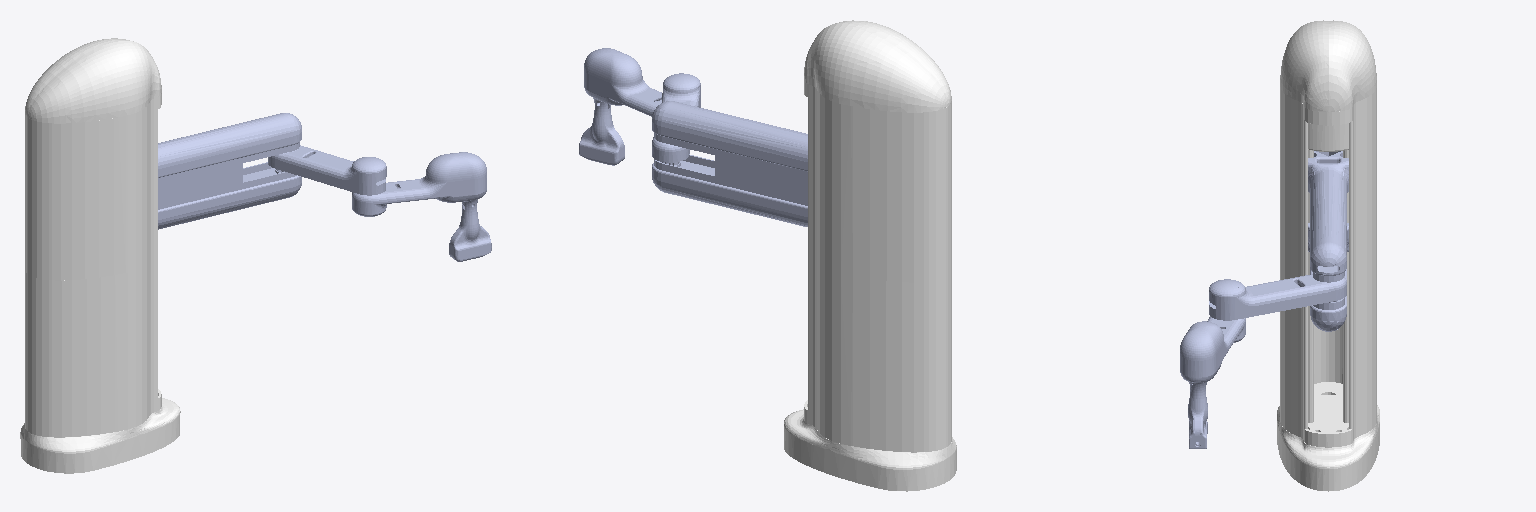
URDF robot description (robotic_arm):
<?xml version="1.0" encoding="utf-8"?>
<!-- This URDF was automatically created by SolidWorks to URDF Exporter! Originally created by [author] ([email redacted]) 
     Commit Version: 1.6.0-4-g7f85cfe  Build Version: 1.6.7995.38578
     For more information, please see http://wiki.ros.org/sw_urdf_exporter -->
<robot
  name="robotic_arm">
  <link name="world">
  </link>


  <link
    name="base_link">
    <inertial>
      <origin
        xyz="-0.0165803890468243 0.19282587000357 -3.51686307226709E-06"
        rpy="0 0 0" />
      <mass
        value="4.34562331098434" />
      <inertia
        ixx="0.0378086473040807"
        ixy="-3.54423084897061E-05"
        ixz="1.47714115379995E-07"
        iyy="0.0165363069227152"
        iyz="2.8578508167006E-07"
        izz="0.0441530515251821" />
    </inertial>
    <visual>
      <origin
        xyz="0 0 0"
        rpy="0 0 0" />
      <geometry>
        <mesh
          filename="package://robotic_arm/meshes/base_link.STL" />
      </geometry>
      <material
        name="">
        <color
          rgba="1 1 1 1" />
      </material>
    </visual>
    <collision>
      <origin
        xyz="0 0 0"
        rpy="0 0 0" />
      <geometry>
        <mesh
          filename="package://robotic_arm/meshes/base_link.STL" />
      </geometry>
    </collision>
  </link>
  <joint name="base_joint" type="fixed">
    <parent link="world"/>
    <child link= "base_link"/>
    <origin rpy="0 0 0" xyz="0.0 0.0 0.17"/>
  </joint>
  <link
    name="centerbody">
    <inertial>
      <origin
        xyz="0.11652 -0.067747 0.40165"
        rpy="0 0 0" />
      <mass
        value="1.8477" />
      <inertia
        ixx="0.0013116"
        ixy="8.7743E-05"
        ixz="9.5889E-08"
        iyy="0.027618"
        iyz="-6.1622E-07"
        izz="0.026765" />
    </inertial>
    <visual>
      <origin
        xyz="0 0 0"
        rpy="0 0 0" />
      <geometry>
        <mesh
          filename="package://robotic_arm/meshes/centerbody.STL" />
      </geometry>
      <material
        name="">
        <color
          rgba="0.79216 0.81961 0.93333 1" />
      </material>
    </visual>
    <collision>
      <origin
        xyz="0 0 0"
        rpy="0 0 0" />
      <geometry>
        <mesh
          filename="package://robotic_arm/meshes/centerbody.STL" />
      </geometry>
    </collision>
  </link>
  <joint
    name="centerbody_to_base_link"
    type="prismatic">
    <origin
      xyz="-0.039405 -0.40165 0.27038"
      rpy="-1.5708 0 0" />
    <parent
      link="base_link" />
    <child
      link="centerbody" />
    <axis
      xyz="0 1 0" />
    <limit
      lower="0.0"
      upper="0.25"
      effort="300"
      velocity="3" />
    
  </joint>
  <link
    name="first_arm">
    <inertial>
      <origin
        xyz="-0.019164 -8.611E-09 -0.089614"
        rpy="0 0 0" />
      <mass
        value="0.17171" />
      <inertia
        ixx="0.00057866"
        ixy="8.762E-12"
        ixz="-2.0511E-05"
        iyy="0.00055337"
        iyz="-2.669E-11"
        izz="4.6257E-05" />
    </inertial>
    <visual>
      <origin
        xyz="0 0 0"
        rpy="0 0 0" />
      <geometry>
        <mesh
          filename="package://robotic_arm/meshes/first_arm.STL" />
      </geometry>
      <material
        name="">
        <color
          rgba="0.79216 0.81961 0.93333 1" />
      </material>
    </visual>
    <collision>
      <origin
        xyz="0 0 0"
        rpy="0 0 0" />
      <geometry>
        <mesh
          filename="package://robotic_arm/meshes/first_arm.STL" />
      </geometry>
    </collision>
  </link>
  <joint
    name="first_arm_to_centerbody"
    type="revolute">
    <origin
      xyz="0.33941 -0.058346 0.40165"
      rpy="-0.42159 0 1.5708" />
    <parent
      link="centerbody" />
    <child
      link="first_arm" />
    <axis
      xyz="1 0 0" />
    <limit
      lower="-3.53"
      upper="1.47"
      effort="300"
      velocity="3" />
    
  </joint>
  <link
    name="second_arm">
    <inertial>
      <origin
        xyz="0.0026502383699763 -4.39800036333704E-07 -0.0918787391702446"
        rpy="0 0 0" />
      <mass
        value="0.27447462799947" />
      <inertia
        ixx="0.000225265050066937"
        ixy="1.15224178865899E-10"
        ixz="-2.07653673596782E-06"
        iyy="0.000194661915254966"
        iyz="-7.73675117611759E-10"
        izz="7.75592837627015E-05" />
    </inertial>
    <visual>
      <origin
        xyz="0 0 0"
        rpy="0 0 0" />
      <geometry>
        <mesh
          filename="package://robotic_arm/meshes/second_arm.STL" />
      </geometry>
      <material
        name="">
        <color
          rgba="0.792156862745098 0.819607843137255 0.933333333333333 1" />
      </material>
    </visual>
    <collision>
      <origin
        xyz="0 0 0"
        rpy="0 0 0" />
      <geometry>
        <mesh
          filename="package://robotic_arm/meshes/second_arm.STL" />
      </geometry>
    </collision>
  </link>
  <joint
    name="second_arm_to_first_arm"
    type="revolute">
    <origin
      xyz="0 0 -0.15"
      rpy="-0.88283 0 0" />
    <parent
      link="first_arm" />
    <child
      link="second_arm" />
    <axis
      xyz="1 0 0" />
    <limit
      lower="-1.77"
      upper="3.55"
      effort="300"
      velocity="3" />
    
  </joint>
  <link
    name="end_effector">
    <inertial>
      <origin
        xyz="0.000169458028733804 -0.0561750751662762 4.3695659512899E-07"
        rpy="0 0 0" />
      <mass
        value="0.0635356282224037" />
      <inertia
        ixx="2.6848836374279E-05"
        ixy="-1.44712372607126E-08"
        ixz="-1.38546760679811E-10"
        iyy="1.43981879560283E-05"
        iyz="-4.88567608943478E-10"
        izz="3.5579199056912E-05" />
    </inertial>
    <visual>
      <origin
        xyz="0 0 0"
        rpy="0 0 0" />
      <geometry>
        <mesh
          filename="package://robotic_arm/meshes/end_effector.STL" />
      </geometry>
      <material
        name="">
        <color
          rgba="0.792156862745098 0.819607843137255 0.933333333333333 1" />
      </material>
    </visual>
    <collision>
      <origin
        xyz="0 0 0"
        rpy="0 0 0" />
      <geometry>
        <mesh
          filename="package://robotic_arm/meshes/end_effector.STL" />
      </geometry>
    </collision>
  </link>
  <joint
    name="end_to_second"
    type="revolute">
    <origin
      xyz="0.0346 0 -0.15"
      rpy="3.1416 1.3157 -1.5708" />
    <parent
      link="second_arm" />
    <child
      link="end_effector" />
    <axis
      xyz="0 1 0" />
    <limit
      lower="-3.14"
      upper="0"
      effort="300"
      velocity="3" />
  </joint>

  <!-- base_joint -->
  <!-- <transmission name="base_joint_trans">
    <type>transmission_interface/SimpleTransmission</type>
    <joint name="base_joint">
        <hardwareInterface>hardware_interface/PositionJointInterface</hardwareInterface>
    </joint>
    <actuator name="base_joint_fixed">
      <hardwareInterface>hardware_interface/PositionJointInterface</hardwareInterface>
      <mechanicalReduction>1</mechanicalReduction>
    </actuator>
  </transmission> -->

  <!-- //centerbody_to_base_link -->
  <transmission name="centerbody_to_base_link_trans">
    <type>transmission_interface/SimpleTransmission</type>
    <joint name="centerbody_to_base_link">
        <hardwareInterface>hardware_interface/PositionJointInterface</hardwareInterface>
    </joint>
    <actuator name="centerbody_to_base_link_motor">
      <hardwareInterface>hardware_interface/PositionJointInterface</hardwareInterface>
      <mechanicalReduction>1</mechanicalReduction>
    </actuator>
  </transmission>

  <!-- //first_arm_to_centerbody -->
  <transmission name="first_arm_to_centerbody_trans">
    <type>transmission_interface/SimpleTransmission</type>
    <joint name="first_arm_to_centerbody">
        <hardwareInterface>hardware_interface/PositionJointInterface</hardwareInterface>
    </joint>
    <actuator name="first_arm_to_centerbody_motor">
      <hardwareInterface>hardware_interface/PositionJointInterface</hardwareInterface>
      <mechanicalReduction>1</mechanicalReduction>
    </actuator>
  </transmission>

  <!-- //second_arm_to_first_arm -->
  <transmission name="second_arm_to_first_arm_trans">
    <type>transmission_interface/SimpleTransmission</type>
    <joint name="second_arm_to_first_arm">
        <hardwareInterface>hardware_interface/PositionJointInterface</hardwareInterface>
    </joint>
    <actuator name="second_arm_to_first_arm_motor">
      <hardwareInterface>hardware_interface/PositionJointInterface</hardwareInterface>
      <mechanicalReduction>1</mechanicalReduction>
    </actuator>
  </transmission>

  <!-- //end_to_second -->
  <transmission name="end_to_second_trans">
    <type>transmission_interface/SimpleTransmission</type>
    <joint name="end_to_second">
        <hardwareInterface>hardware_interface/PositionJointInterface</hardwareInterface>
    </joint>
    <actuator name="end_to_second_motor">
      <hardwareInterface>hardware_interface/PositionJointInterface</hardwareInterface>
      <mechanicalReduction>1</mechanicalReduction>
    </actuator>
  </transmission>

  <gazebo>
    <plugin name="control" filename="libgazebo_ros_control.so">
    <robotNamespace>/</robotNamespace>
    </plugin>
  </gazebo>

  <gazebo reference="centerbody">
    <selfCollide>true</selfCollide>
  </gazebo>

  <gazebo reference="first_arm">
    <selfCollide>true</selfCollide>
  </gazebo>

  <gazebo reference="second_arm">
    <selfCollide>true</selfCollide>
  </gazebo>

  <gazebo reference="end_effector">
    <selfCollide>true</selfCollide>
  </gazebo>

</robot>

--- Render facts (derived) ---
Views: 3 orthographic renders of the robot side by side, from view 1: azimuth 30°, elevation 25°; view 2: azimuth 150°, elevation 25°; view 3: azimuth 270°, elevation 25°.
Model robotic_arm with 6 links and 5 joints (3 revolute, 1 prismatic, 1 fixed), rooted at world, posed every joint at zero.
Links seen in each view (by area): view 1: base_link, centerbody, second_arm, first_arm, end_effector; view 2: base_link, centerbody, second_arm, end_effector, first_arm; view 3: base_link, centerbody, first_arm, second_arm, end_effector.
Boxes of the visible links, <box> form: base_link: <box>20,38,180,473</box>; centerbody: <box>158,113,301,229</box>; second_arm: <box>352,152,486,216</box>; first_arm: <box>268,145,386,195</box>; end_effector: <box>449,201,491,261</box>; base_link: <box>784,20,956,491</box>; centerbody: <box>652,101,807,226</box>; second_arm: <box>584,48,661,116</box>; end_effector: <box>579,99,624,165</box>; first_arm: <box>652,73,700,162</box>; base_link: <box>1277,20,1379,491</box>; centerbody: <box>1308,151,1348,331</box>; first_arm: <box>1209,274,1346,320</box>; second_arm: <box>1180,316,1245,384</box>; end_effector: <box>1188,383,1207,448</box>.
Bounding box of the posed robot: 0.6662 × 0.2713 × 0.6368 m (x, y, z).
5 mesh visuals loaded from 5 distinct referenced files (5 binary STL).